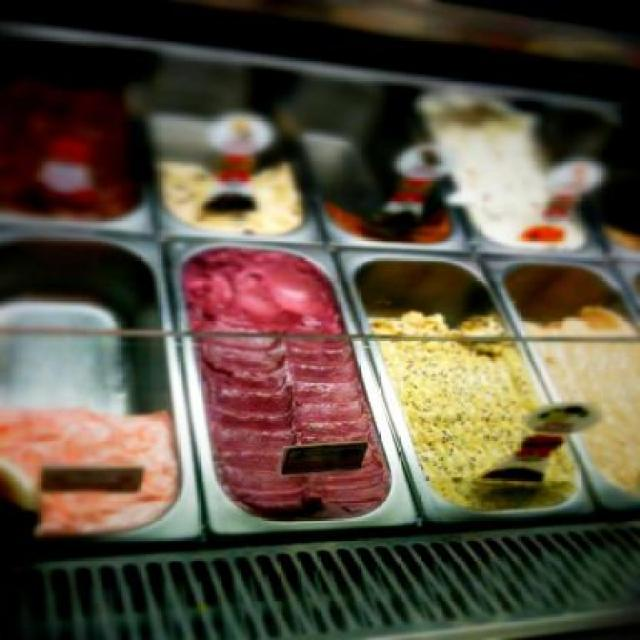Ice cream: (185, 250, 388, 516), (373, 304, 576, 516), (416, 79, 593, 255), (0, 403, 183, 539), (0, 64, 155, 224), (526, 296, 640, 506), (162, 155, 312, 239), (327, 172, 458, 246)
